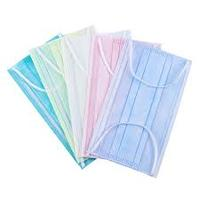flu mask: (84, 38, 193, 179)
